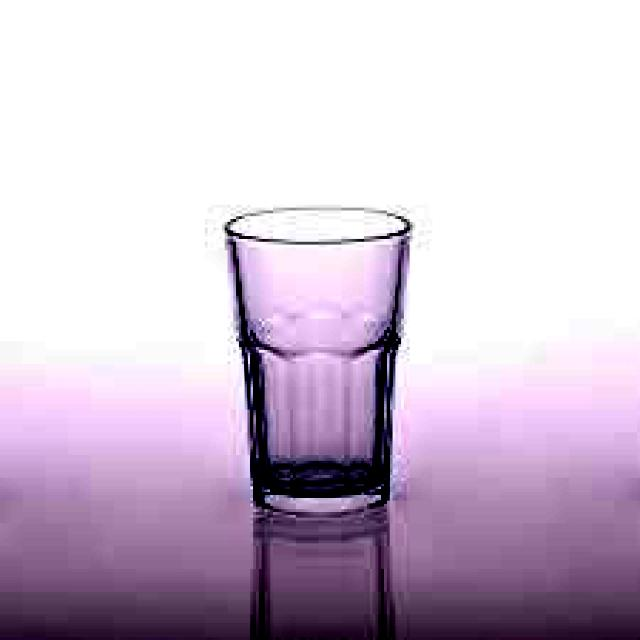Glass: (222, 203, 414, 518)
